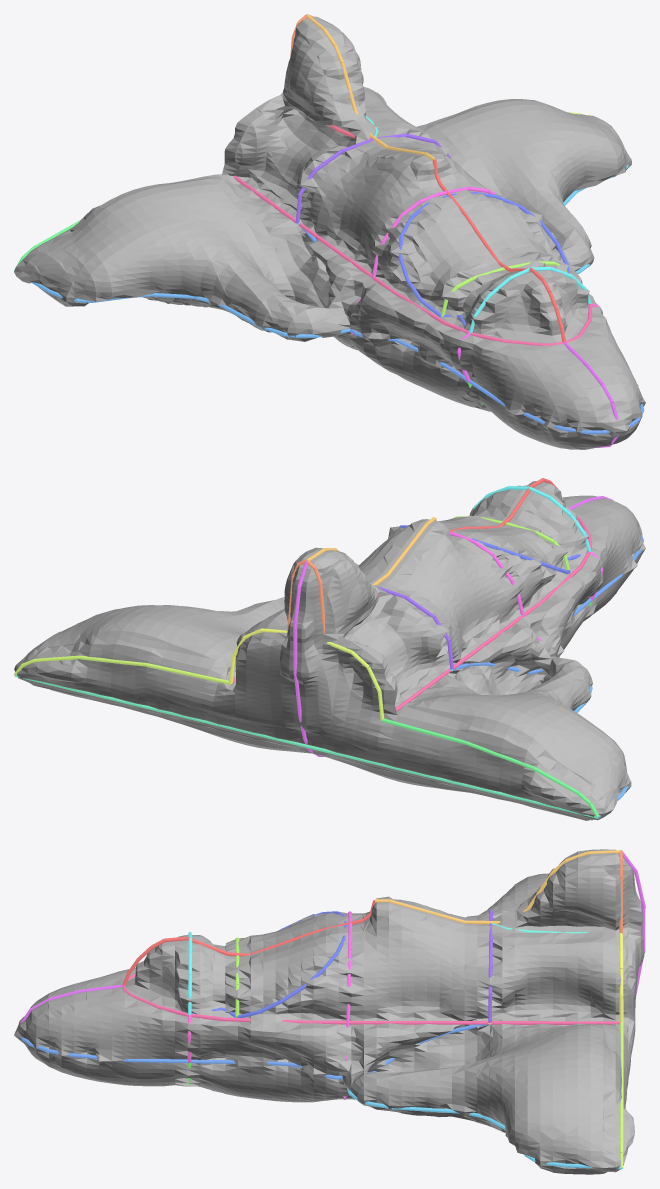
File: t2f_fighter.gltf
3 views of the same model, one above another, from view 1: azimuth 30°, elevation 25°; view 2: azimuth 150°, elevation 25°; view 3: azimuth 270°, elevation 25° (orthographic). The views are drawn at different scales.
Size of the model in its own units: 0.7097 by 0.2735 by 0.6754.
